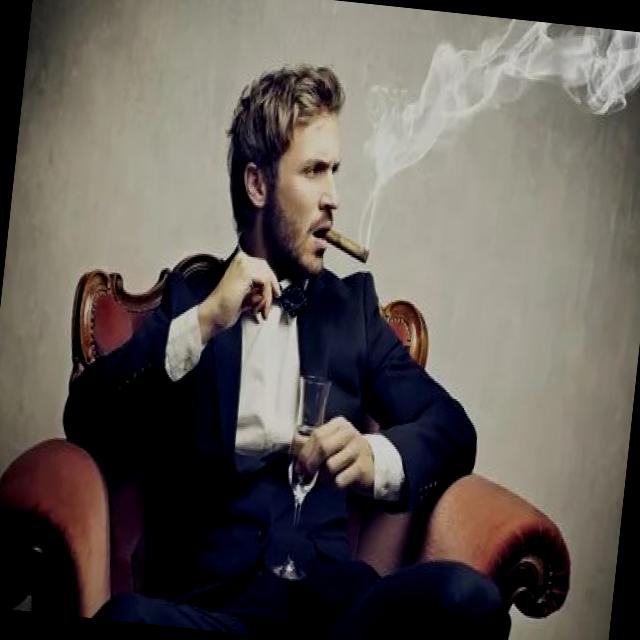smoke: (305, 224, 374, 267)
